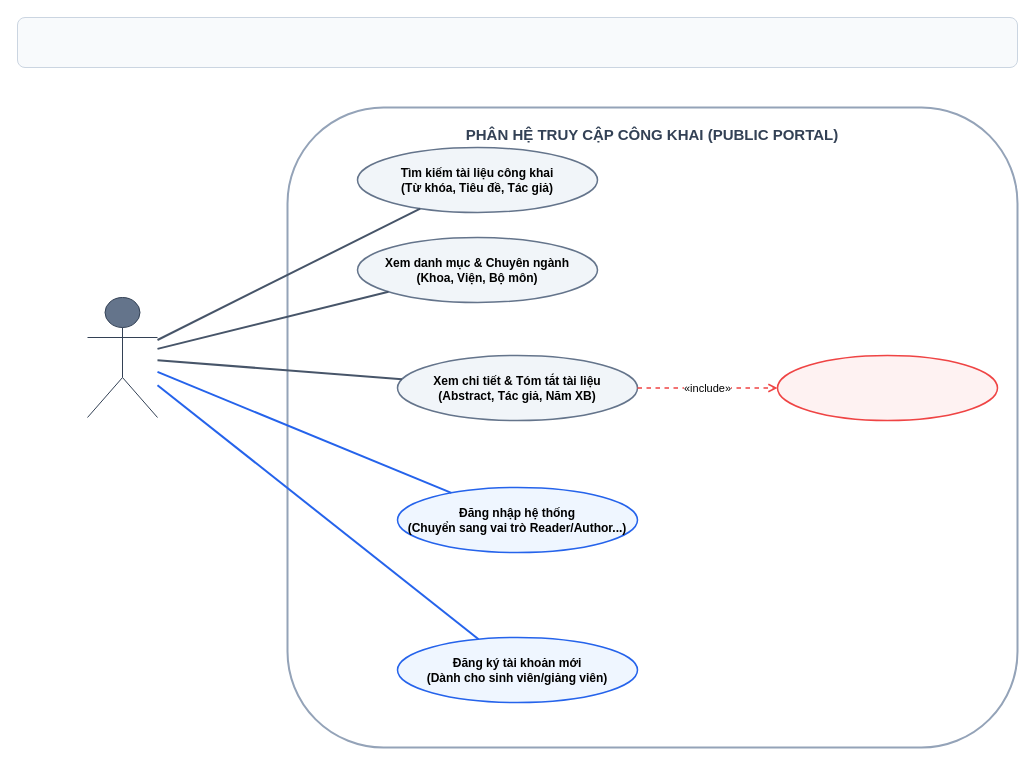
This 1036x766 diagram has some shape labels left out. The shapes that lost their labels are listed below. From the top down, each one's box as (x1, y1, x2, y2) in pixels, then its label:
(16, 16, 1018, 68): SƠ ĐỒ USE CASE: PHÂN HỆ KHÁCH VÃNG LAI (GUEST)
(86, 296, 158, 418): Khách vãng lai (Guest)
(776, 354, 998, 421): Ghi nhận lượt xem công khai (View Logs vô danh)
